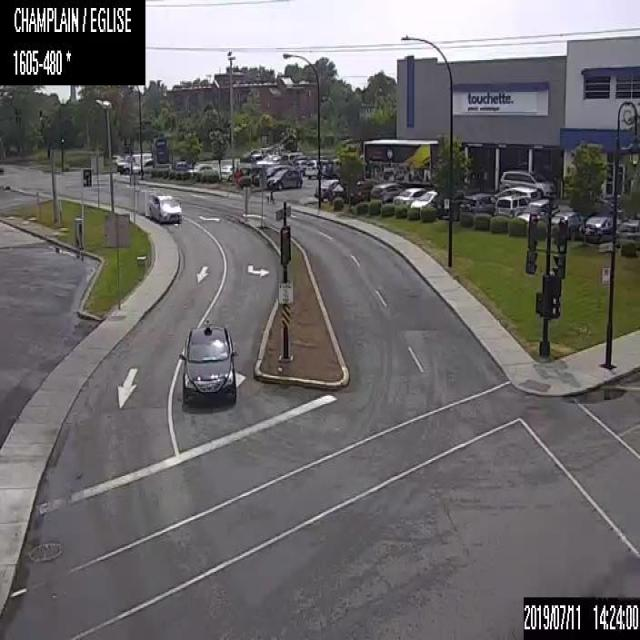vehicle: (176, 324, 238, 408), (498, 168, 554, 196), (148, 190, 183, 222), (459, 192, 495, 220), (516, 198, 560, 220), (331, 178, 370, 201), (251, 164, 289, 187), (436, 188, 464, 218), (494, 194, 529, 217), (267, 167, 301, 190), (117, 151, 152, 173), (370, 181, 404, 203), (550, 209, 582, 232), (580, 213, 612, 236), (409, 188, 436, 215), (493, 185, 537, 200), (234, 160, 261, 184), (392, 186, 426, 204), (615, 217, 639, 240), (314, 178, 339, 200), (304, 157, 330, 178), (187, 162, 216, 175), (132, 157, 153, 174), (324, 157, 340, 176), (280, 151, 302, 163), (220, 163, 236, 179), (256, 153, 279, 163), (294, 158, 306, 174), (174, 159, 186, 172), (112, 153, 122, 164)
